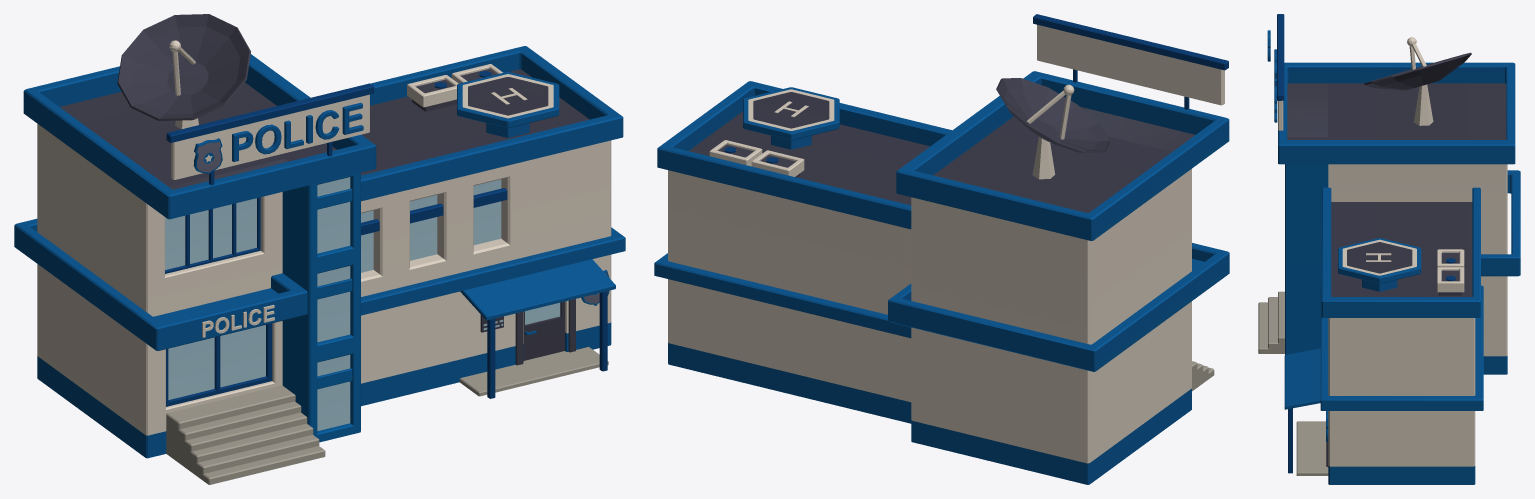
The model's file is Police_Station.fbx.
The picture shows the model from 3 angles, left to right: view 1: azimuth 30°, elevation 25°; view 2: azimuth 150°, elevation 25°; view 3: azimuth 270°, elevation 25°; orthographic projection. The views are drawn at different scales.
Parts seen in each view (by area): view 1: Police_Station; view 2: Police_Station; view 3: Police_Station.
Boxes of the visible parts, <box> form: Police_Station: <box>14,14,625,484</box>; Police_Station: <box>654,14,1229,484</box>; Police_Station: <box>1258,14,1520,484</box>.
Bounding box in the file's own units: 1472 × 1037 × 838.
Materials: 1 (1 with a texture image).
